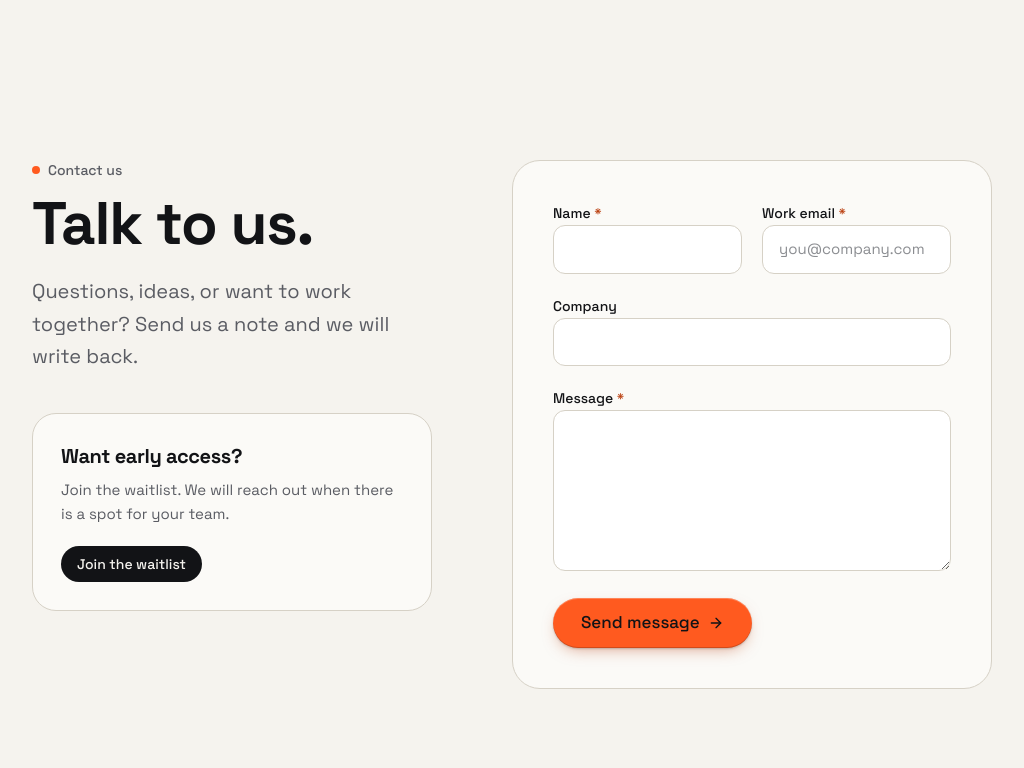
Test case: the contact page › sends the message, marked as from the contact form, and thanks the sender
Type "Sam Lee" into the field labelled "Name *" at {"x": 648, "y": 249}, box [553,225,742,274]
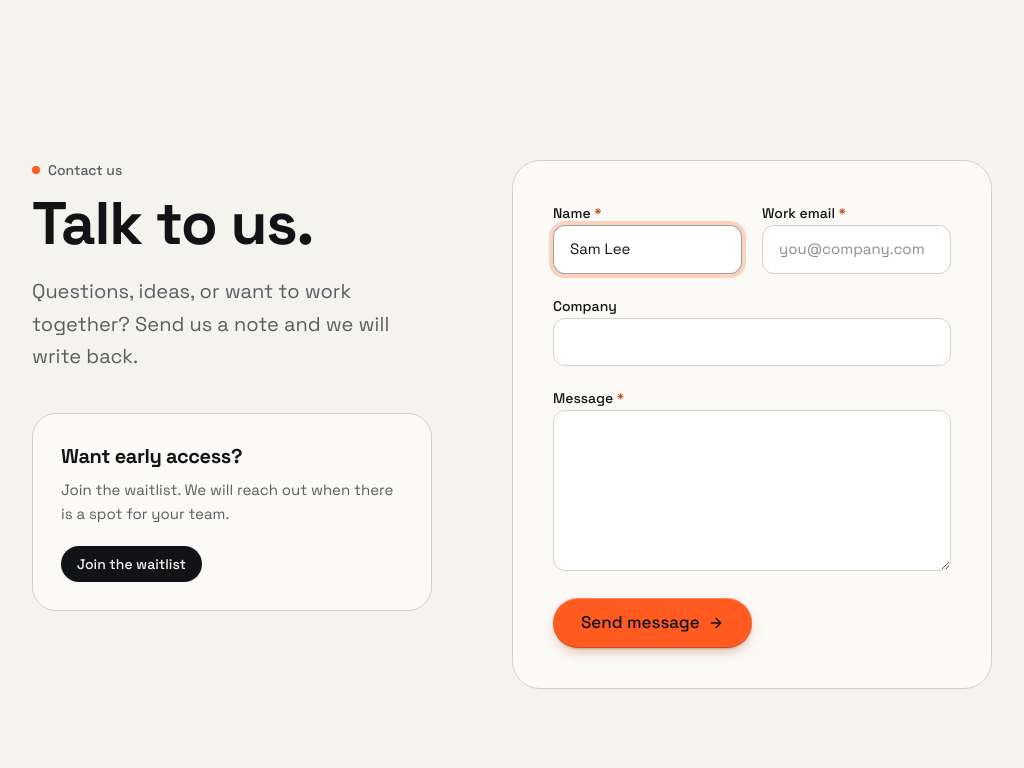
Type "sam@example.com" into the field labelled "Work email *" at {"x": 856, "y": 249}, box [762,225,951,274]
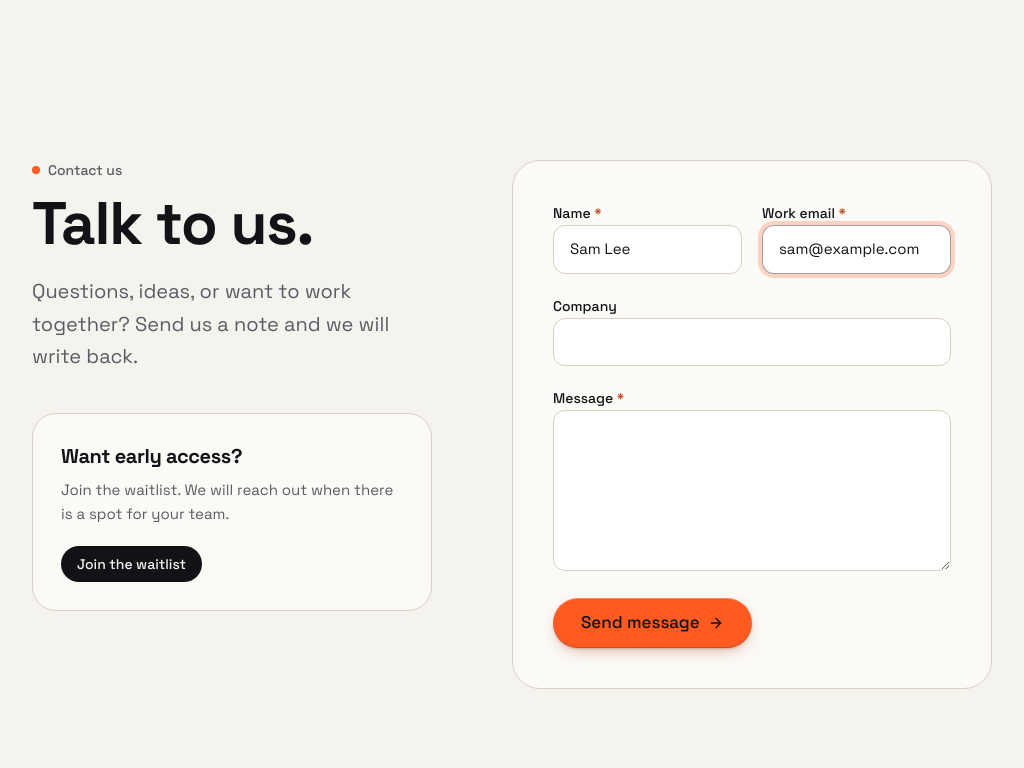
Type "Example Co" into the field labelled "Company" at {"x": 752, "y": 342}, box [553,318,951,366]
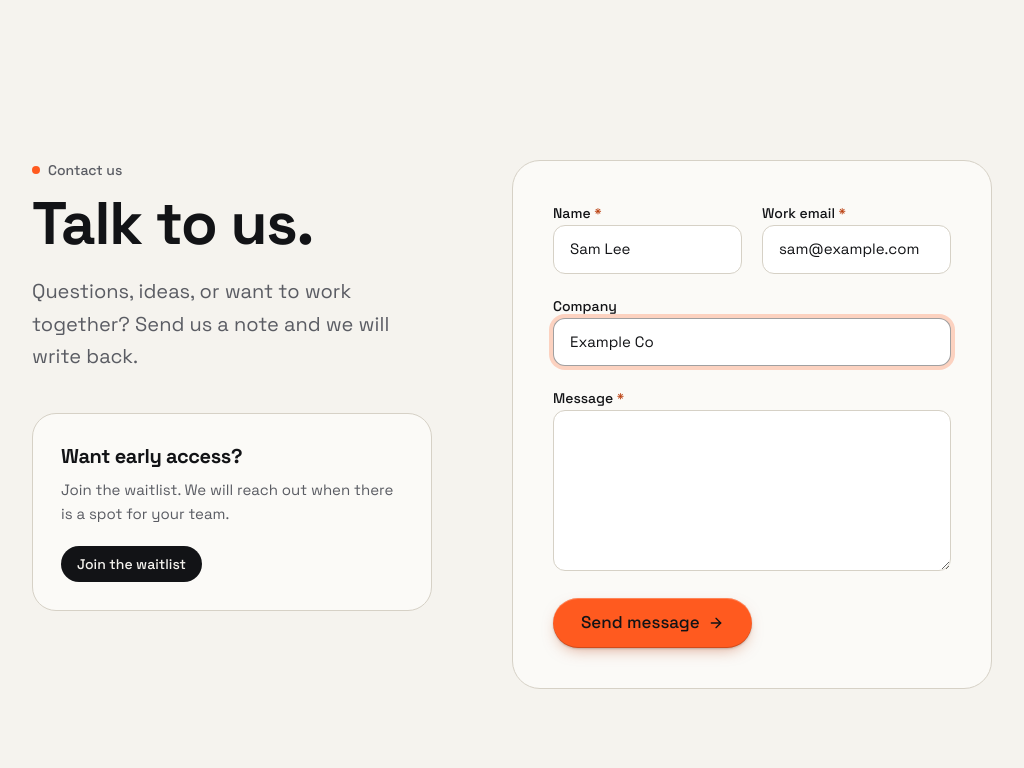
Type "We use a lot of agents." into the text box labelled "Message *" at {"x": 752, "y": 490}, box [553,410,951,571]
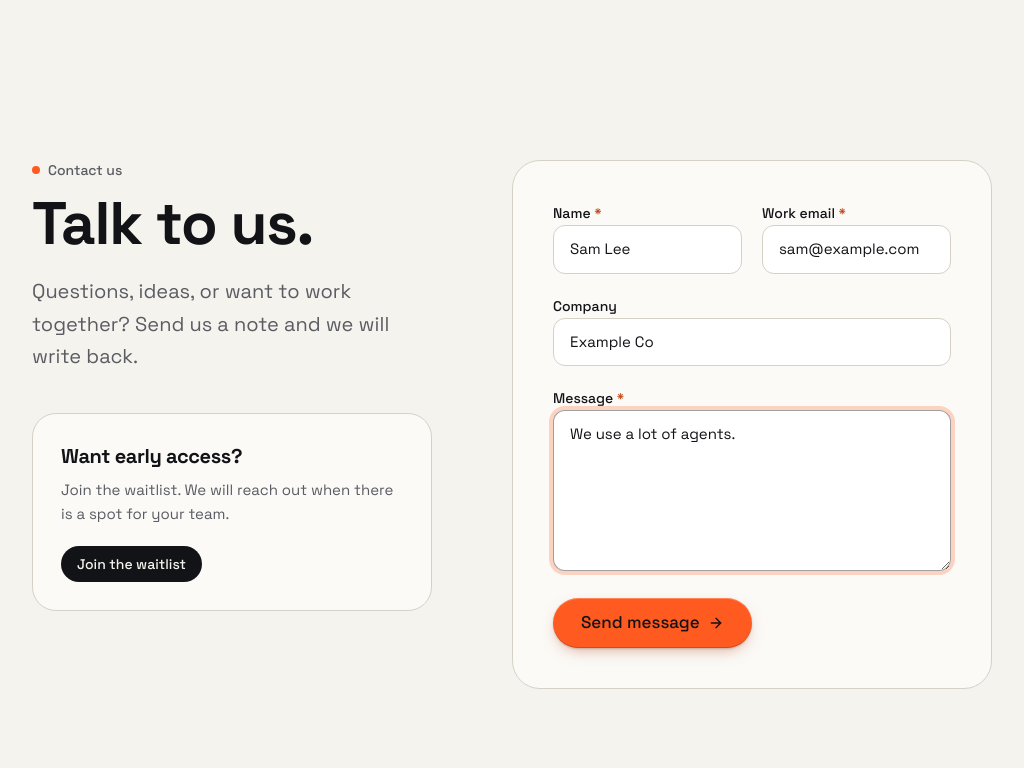
Click the button "Send message" at {"x": 652, "y": 623}, box [553,598,752,648]
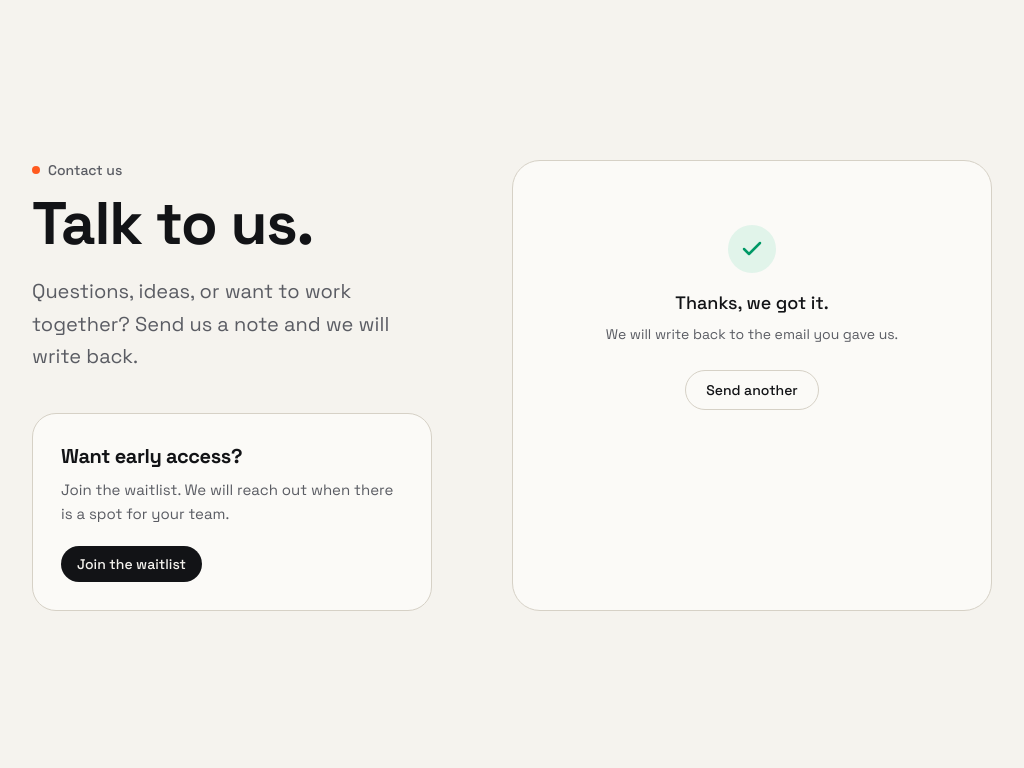
Expected: the text "Thanks, we got it." is shown, [675,289,829,317]
